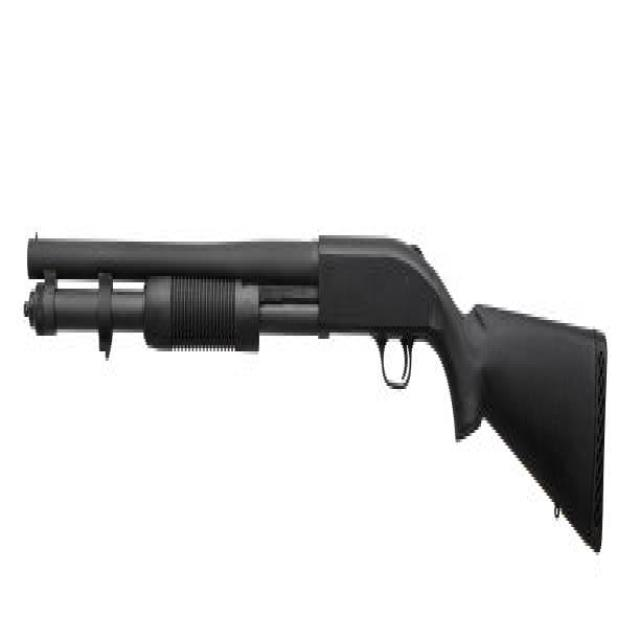rifle: (18, 209, 611, 569)
